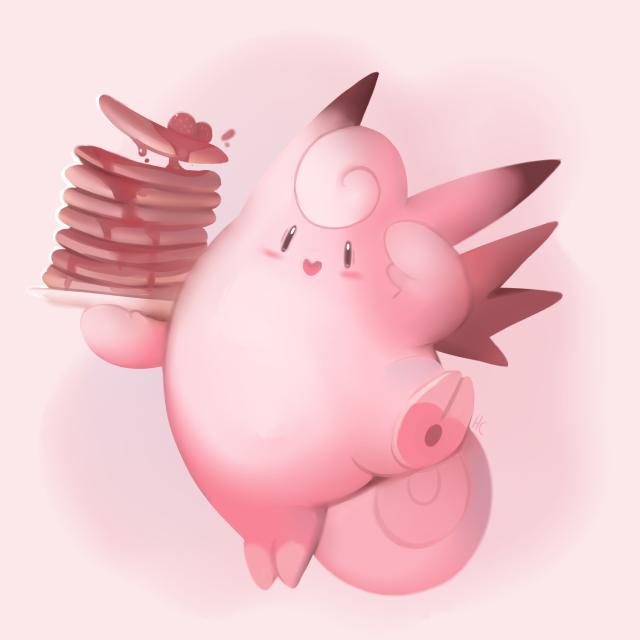Clefable: (149, 77, 490, 587)
